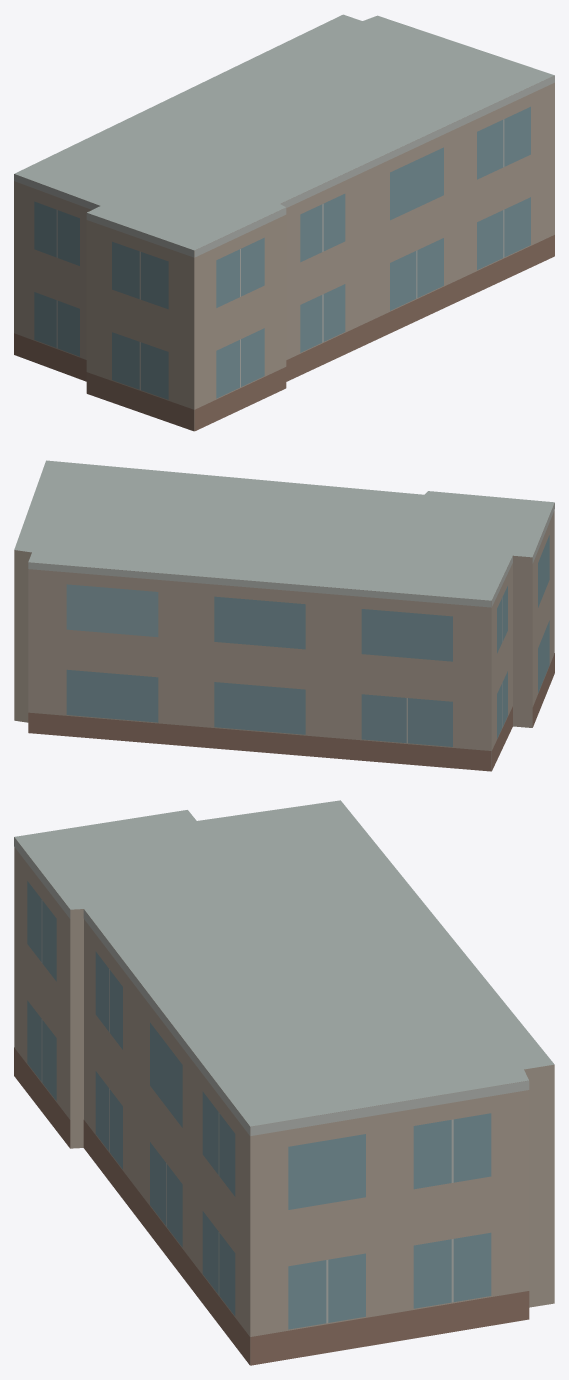
File: survey-upis-33008141.glb
The picture shows the model from 3 angles, top to bottom: view 1: azimuth 30°, elevation 25°; view 2: azimuth 150°, elevation 25°; view 3: azimuth 270°, elevation 25°; orthographic projection. The views are drawn at different scales.
Visible parts, largest first — view 1: survey-upis-33008141.tmp; view 2: survey-upis-33008141.tmp; view 3: survey-upis-33008141.tmp.
Part boxes in pixels (box(x1,y1,x2,y2)): survey-upis-33008141.tmp: box(14, 14, 554, 431); survey-upis-33008141.tmp: box(14, 460, 554, 771); survey-upis-33008141.tmp: box(14, 800, 554, 1365).
Size of the model in its own units: 17.88 by 6.1 by 12.52.
